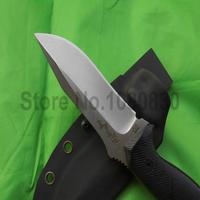knife: (29, 26, 162, 178)
